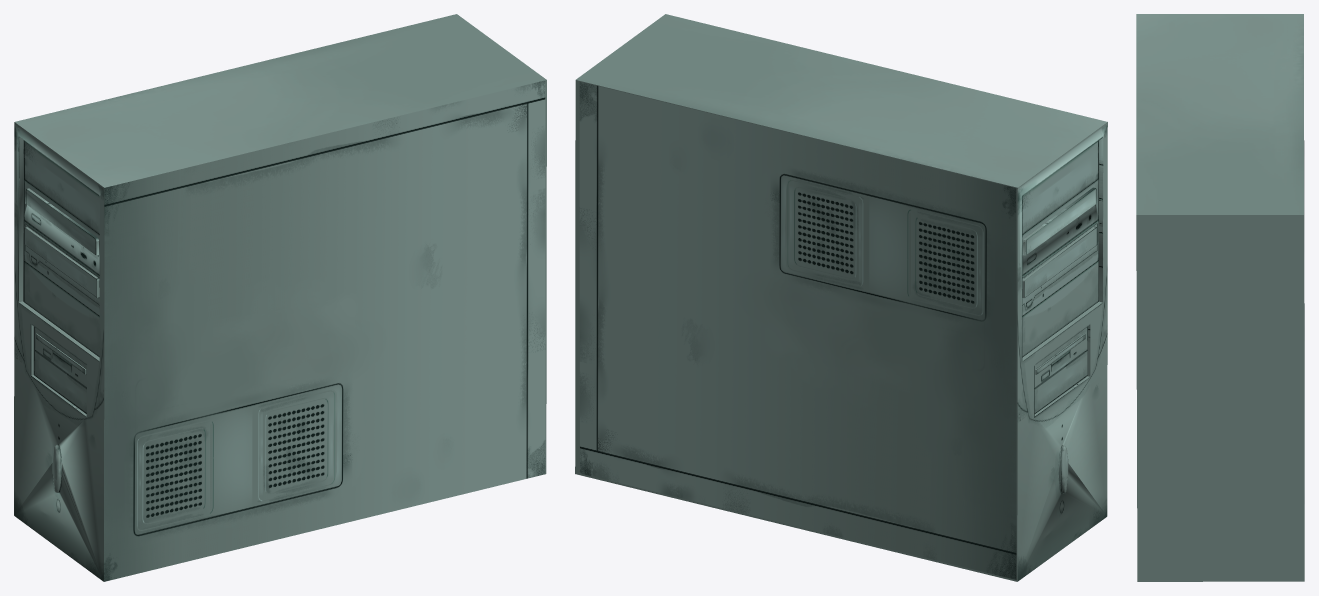
The model's file is ComputerBlock20.fbx.
The picture shows the model from 3 angles, left to right: view 1: azimuth 30°, elevation 25°; view 2: azimuth 150°, elevation 25°; view 3: azimuth 270°, elevation 25°; orthographic projection. The views are drawn at different scales.
Parts seen in each view (by area): view 1: Computer, InsertDics; view 2: Computer, InsertDics; view 3: Computer.
Boxes of the visible parts, x1=… form: Computer: x1=14, y1=14, x2=546, y2=581; InsertDics: x1=24, y1=227, x2=99, y2=297; Computer: x1=575, y1=14, x2=1107, y2=581; InsertDics: x1=1022, y1=226, x2=1096, y2=298; Computer: x1=1136, y1=14, x2=1304, y2=581.
Size of the model in its own units: 109 by 91.62 by 38.07.
Materials: 1 (1 with a texture image).
